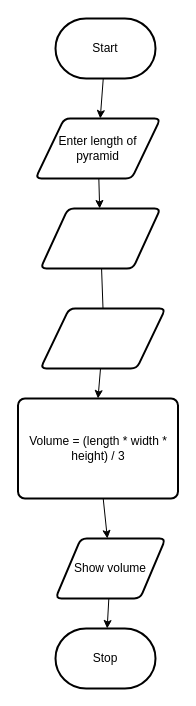
The diagram is 196 pixels wide and 706 high, and some of its shapes have lost their labels. Here are the shapes that lost their labels. From the top down, the centre of each, then its label:
At point 100,238: "Enter width of pyramid".
At point 102,338: "Enter height of pyramid".
